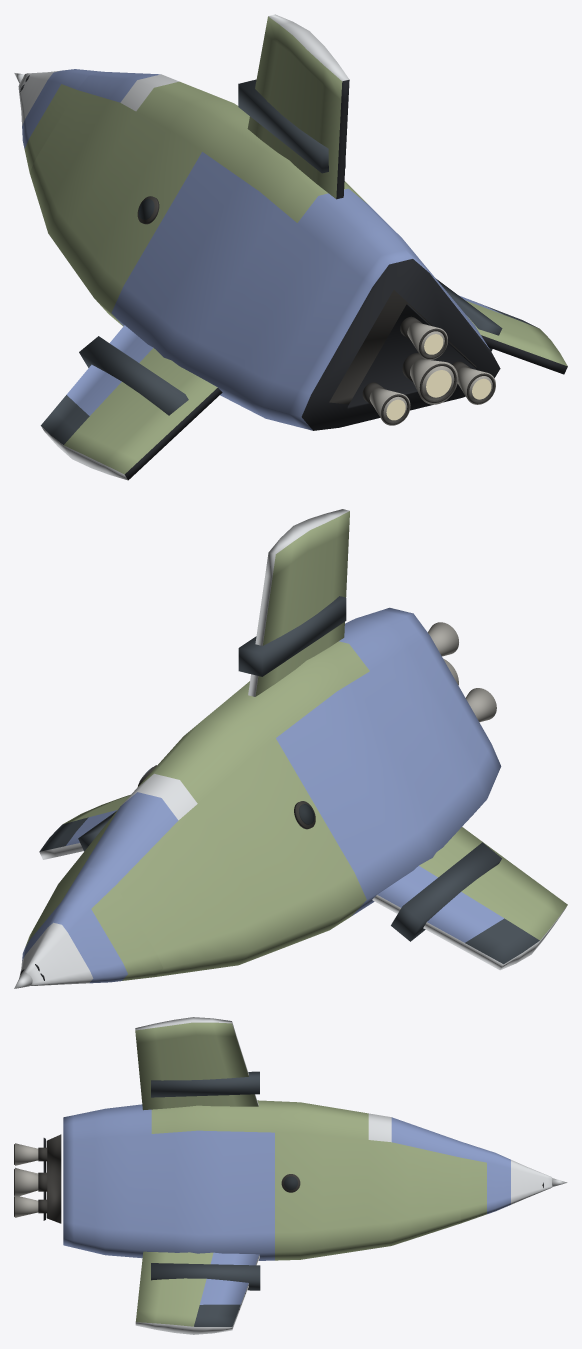
Rendered from Ship_Standard_5.glb.
3 renders of one model, top to bottom at view 1: azimuth 30°, elevation 25°; view 2: azimuth 150°, elevation 25°; view 3: azimuth 270°, elevation 25°, orthographic. The views are drawn at different scales.
Parts seen in each view (by area): view 1: Fuselage_RoundedTriangleTriFoldBody, Wing_LowerLeft_TriFoldCornerBladePaintedMesh, Wing_Dorsal_TriFoldCornerBladePaintedMesh, Nose_RoundedTriangleTaperedForwardSection, EngineBlock_AftTriFoldTrimFrame, WingRootSocket_LowerLeft_IntegratedEmbeddedShoulder, Wing_LowerRight_TriFoldCornerBladePaintedMesh, WingRootSocket_Dorsal_IntegratedEmbeddedShoulder, EngineBlock_AftTriangularIntegratedMountPlate, EngineEmitter, EngineBell_Center_BurnishedNozzle, WingRootSocket_LowerRight_IntegratedEmbeddedShoulder (+3 smaller); view 2: Fuselage_RoundedTriangleTriFoldBody, Wing_LowerLeft_TriFoldCornerBladePaintedMesh, Nose_RoundedTriangleTaperedForwardSection, Wing_Dorsal_TriFoldCornerBladePaintedMesh, WingRootSocket_LowerLeft_IntegratedEmbeddedShoulder, WingRootSocket_Dorsal_IntegratedEmbeddedShoulder, Wing_LowerRight_TriFoldCornerBladePaintedMesh, EngineBell_LowerLeft_BurnishedNozzle, EngineBell_Dorsal_BurnishedNozzle; view 3: Fuselage_RoundedTriangleTriFoldBody, Wing_Dorsal_TriFoldCornerBladePaintedMesh, Wing_LowerRight_TriFoldCornerBladePaintedMesh, Nose_RoundedTriangleTaperedForwardSection, WingRootSocket_Dorsal_IntegratedEmbeddedShoulder, WingRootSocket_LowerRight_IntegratedEmbeddedShoulder, EngineBlock_AftTriangularIntegratedMountPlate, EngineBell_Center_BurnishedNozzle, EngineBell_Dorsal_BurnishedNozzle, EngineBell_LowerRight_BurnishedNozzle.
Part boxes in pixels (bbox=[...]): Fuselage_RoundedTriangleTriFoldBody: bbox=[29, 72, 500, 430]; Wing_LowerLeft_TriFoldCornerBladePaintedMesh: bbox=[40, 325, 222, 480]; Wing_Dorsal_TriFoldCornerBladePaintedMesh: bbox=[247, 14, 349, 199]; Nose_RoundedTriangleTaperedForwardSection: bbox=[18, 69, 103, 172]; EngineBlock_AftTriFoldTrimFrame: bbox=[347, 304, 478, 408]; WingRootSocket_LowerLeft_IntegratedEmbeddedShoulder: bbox=[79, 336, 188, 415]; Wing_LowerRight_TriFoldCornerBladePaintedMesh: bbox=[459, 295, 567, 374]; WingRootSocket_Dorsal_IntegratedEmbeddedShoulder: bbox=[238, 79, 345, 173]; EngineBlock_AftTriangularIntegratedMountPlate: bbox=[329, 290, 476, 404]; EngineEmitter: bbox=[386, 334, 491, 420]; EngineBell_Center_BurnishedNozzle: bbox=[410, 359, 458, 404]; WingRootSocket_LowerRight_IntegratedEmbeddedShoulder: bbox=[436, 279, 502, 351]; Fuselage_RoundedTriangleTriFoldBody: bbox=[33, 607, 501, 976]; Wing_LowerLeft_TriFoldCornerBladePaintedMesh: bbox=[372, 827, 567, 970]; Nose_RoundedTriangleTaperedForwardSection: bbox=[19, 867, 163, 985]; Wing_Dorsal_TriFoldCornerBladePaintedMesh: bbox=[248, 509, 349, 696]; WingRootSocket_LowerLeft_IntegratedEmbeddedShoulder: bbox=[391, 842, 501, 941]; WingRootSocket_Dorsal_IntegratedEmbeddedShoulder: bbox=[238, 596, 346, 676]; Wing_LowerRight_TriFoldCornerBladePaintedMesh: bbox=[39, 794, 130, 859]; EngineBell_LowerLeft_BurnishedNozzle: bbox=[465, 688, 496, 722]; EngineBell_Dorsal_BurnishedNozzle: bbox=[428, 622, 458, 656]; Fuselage_RoundedTriangleTriFoldBody: bbox=[63, 1100, 460, 1260]; Wing_Dorsal_TriFoldCornerBladePaintedMesh: bbox=[135, 1017, 258, 1110]; Wing_LowerRight_TriFoldCornerBladePaintedMesh: bbox=[135, 1251, 259, 1334]; Nose_RoundedTriangleTaperedForwardSection: bbox=[460, 1141, 552, 1223]; WingRootSocket_Dorsal_IntegratedEmbeddedShoulder: bbox=[151, 1071, 259, 1097]; WingRootSocket_LowerRight_IntegratedEmbeddedShoulder: bbox=[151, 1263, 260, 1290]; EngineBlock_AftTriangularIntegratedMountPlate: bbox=[46, 1134, 61, 1223]; EngineBell_Center_BurnishedNozzle: bbox=[15, 1167, 38, 1196]; EngineBell_Dorsal_BurnishedNozzle: bbox=[15, 1143, 38, 1165]; EngineBell_LowerRight_BurnishedNozzle: bbox=[15, 1195, 38, 1217].
Bounding box in the file's own units: 4.97 × 3.69 × 7.67.
